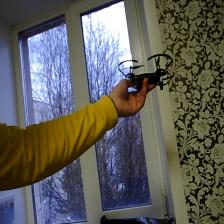drone: (117, 48, 178, 94)
